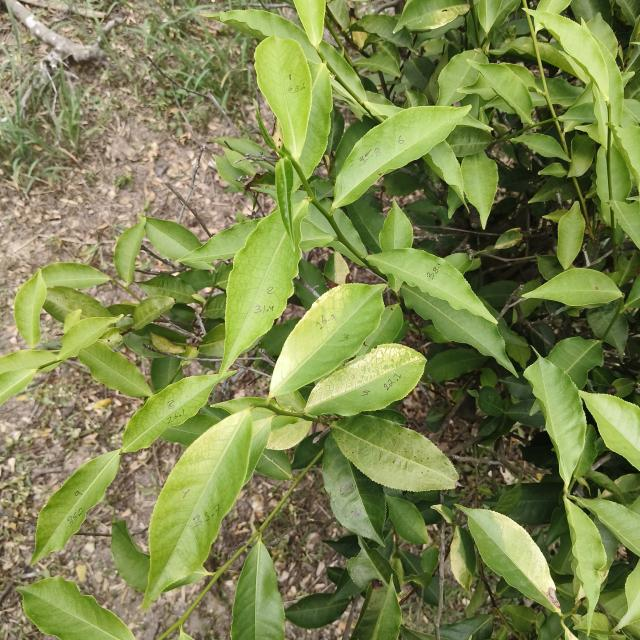Leaf: (142, 409, 252, 609), (331, 106, 470, 214), (221, 210, 301, 372), (270, 284, 385, 396), (457, 505, 560, 612), (400, 285, 515, 373), (31, 450, 120, 563), (331, 414, 458, 491), (369, 248, 497, 324), (122, 372, 234, 452), (306, 344, 426, 416), (524, 356, 586, 488), (322, 430, 386, 545), (18, 577, 134, 640), (255, 35, 311, 161), (529, 10, 609, 98), (212, 9, 319, 62), (564, 498, 606, 632), (231, 541, 285, 640), (579, 391, 640, 469), (78, 341, 152, 397), (178, 219, 259, 270), (298, 63, 333, 178), (470, 62, 532, 123), (576, 498, 640, 556), (525, 268, 622, 306), (351, 582, 401, 640), (596, 144, 631, 226), (548, 337, 603, 389), (461, 151, 498, 228), (111, 520, 150, 593), (59, 314, 122, 359), (437, 50, 487, 106), (141, 216, 201, 260), (43, 286, 115, 322), (14, 269, 46, 349), (356, 304, 404, 356), (423, 141, 464, 201), (394, 0, 469, 32), (347, 192, 385, 253), (346, 538, 392, 588), (587, 303, 628, 358), (285, 593, 349, 628), (510, 483, 562, 526), (356, 14, 414, 51), (424, 348, 486, 382), (386, 495, 429, 544), (114, 221, 145, 285), (557, 202, 585, 270), (379, 199, 413, 251), (450, 526, 477, 591), (42, 263, 109, 289), (137, 274, 197, 303), (276, 156, 294, 247), (511, 133, 569, 161), (294, 0, 325, 48), (0, 349, 59, 373), (610, 201, 640, 248), (300, 213, 336, 251), (133, 296, 174, 329), (0, 369, 37, 405), (567, 133, 595, 177), (354, 53, 401, 77), (214, 156, 244, 191), (501, 605, 536, 633), (215, 137, 267, 155), (477, 0, 502, 33), (478, 386, 503, 416), (421, 546, 438, 576)
